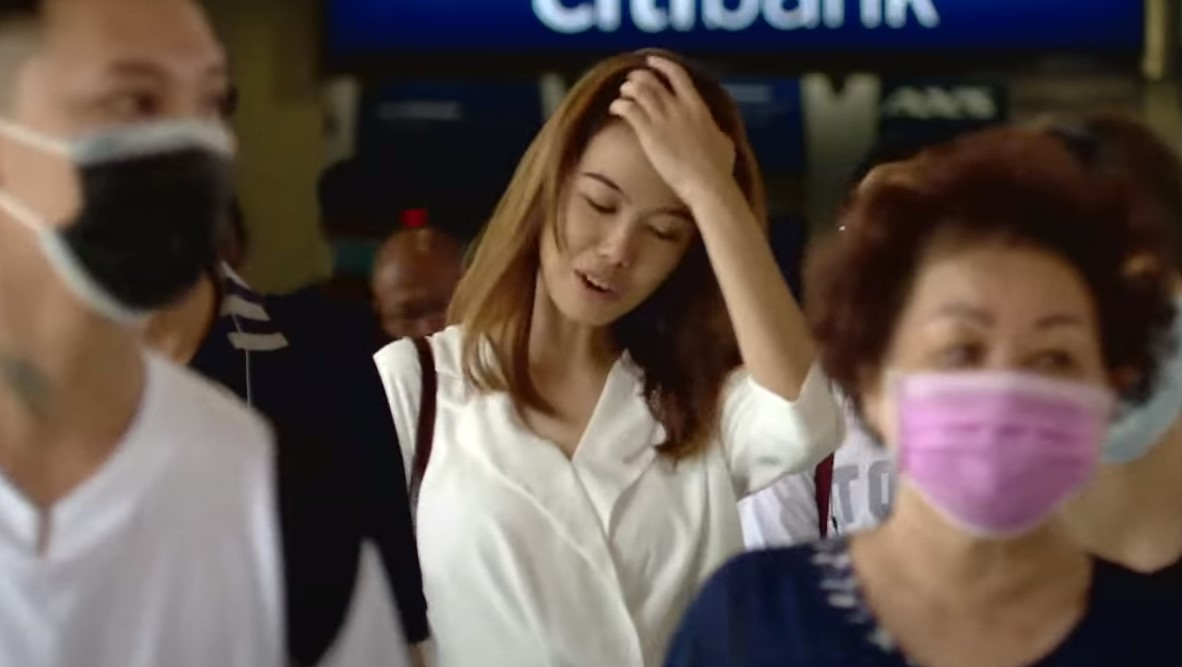face_no_mask: (521, 46, 743, 339)
face_with_mask: (843, 191, 1144, 536), (3, 0, 253, 348)
